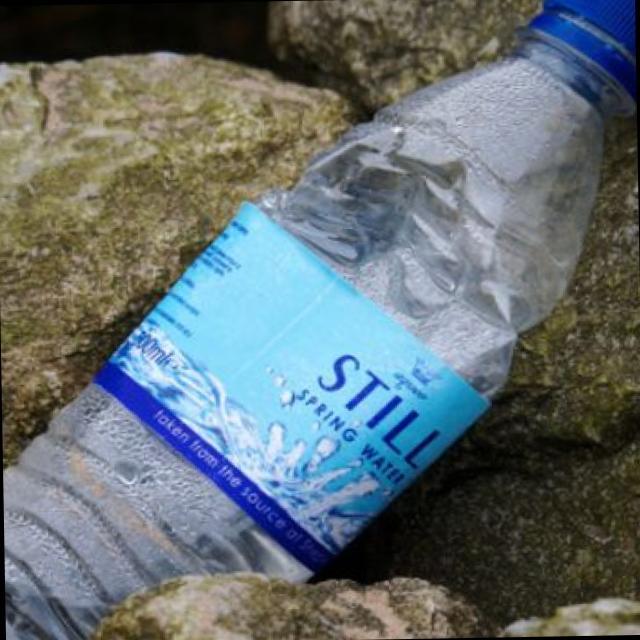general: (3, 0, 636, 640)
